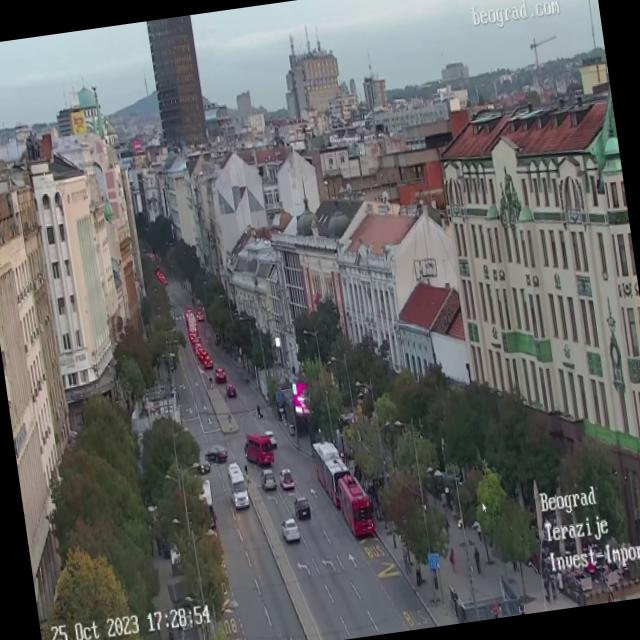bus: (312, 436, 358, 512), (334, 470, 378, 544), (242, 430, 276, 468), (226, 457, 250, 510)
car: (280, 517, 301, 544), (294, 494, 313, 519), (205, 444, 227, 462), (278, 466, 296, 486), (194, 456, 212, 476), (260, 469, 276, 488), (200, 351, 215, 368), (216, 366, 226, 386), (224, 381, 236, 397), (266, 428, 276, 443)
